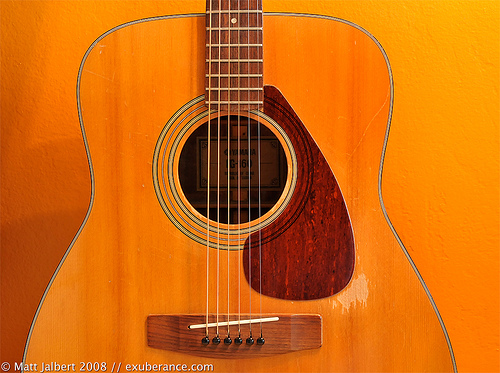guitar: (21, 1, 459, 373)
